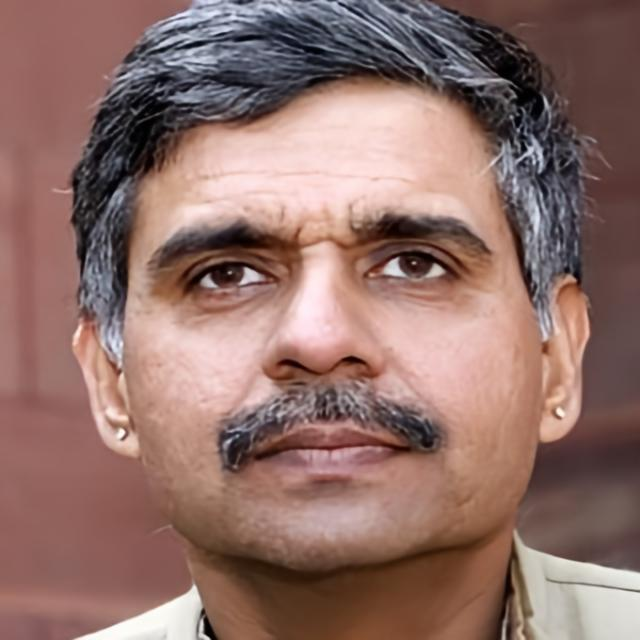neutral: (122, 88, 540, 576)
